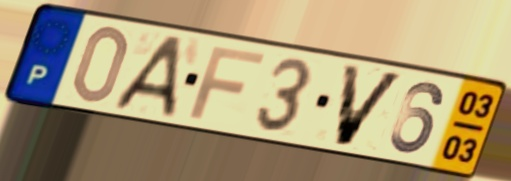0: (69, 24, 131, 106)
3: (254, 56, 317, 135)
6: (389, 79, 445, 156)
A: (108, 34, 188, 119)
F: (186, 44, 269, 122)
V: (332, 61, 409, 150)
